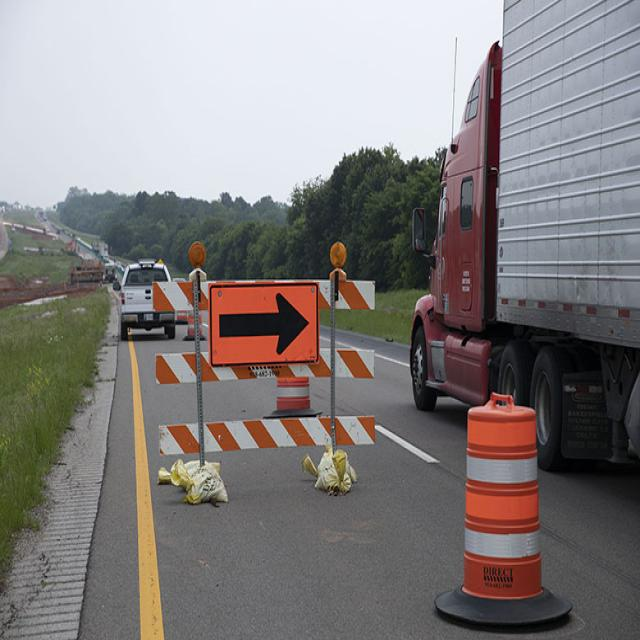dump_truck: (382, 4, 639, 481)
light_vehicle: (102, 246, 185, 341)
